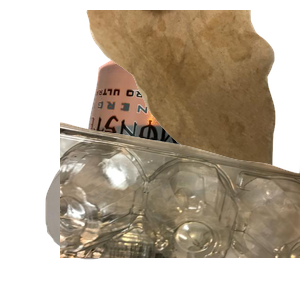glass: (43, 159, 187, 300)
metal: (73, 52, 263, 232)
plastic: (60, 120, 300, 300)
trash: (84, 10, 300, 190)
